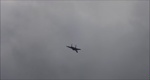maybay_muctieu: (65, 44, 83, 55)
